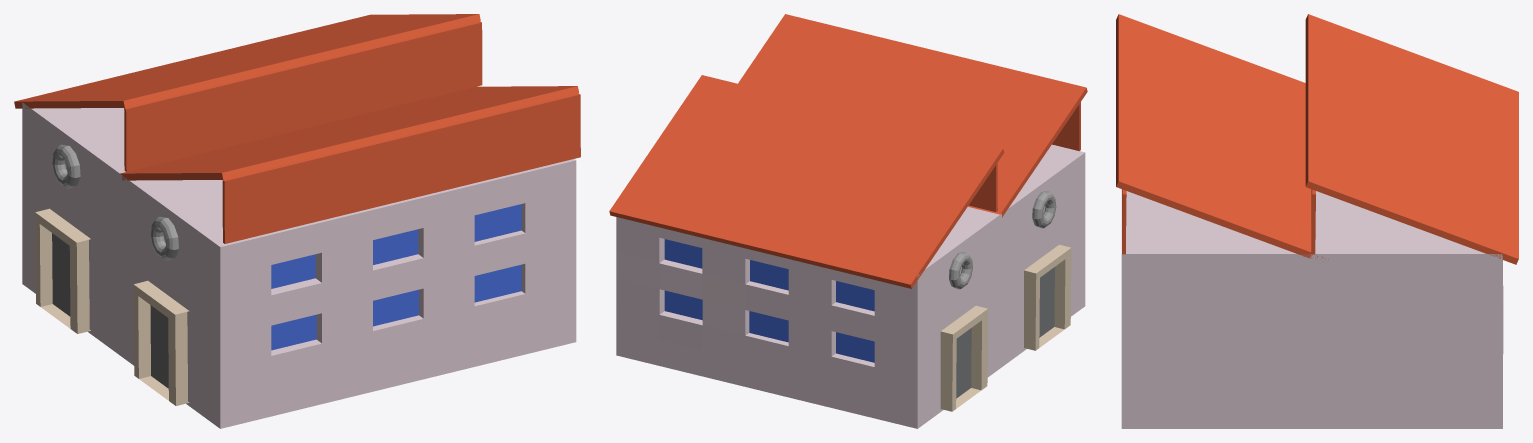
The model's file is orangepowder.glb.
3 views of the same model, side by side, from view 1: azimuth 30°, elevation 25°; view 2: azimuth 150°, elevation 25°; view 3: azimuth 270°, elevation 25° (orthographic). The views are drawn at different scales.
Visible parts, largest first — view 1: Cube.004, Cube.002, Cube, Cube.001, Cube.003, Cube.006, Torus; view 2: Cube.001, Cube, Cube.004, Cube.006, Cube.003, Cube.002, Torus; view 3: Cube.004, Cube, Cube.001, Cube.006.
Part boxes in pixels (x1=…): Cube.004: x1=120, y1=86, x2=580, y2=428; Cube.002: x1=124, y1=21, x2=482, y2=171; Cube: x1=22, y1=102, x2=125, y2=356; Cube.001: x1=14, y1=14, x2=480, y2=108; Cube.003: x1=35, y1=208, x2=90, y2=333; Cube.006: x1=35, y1=92, x2=187, y2=333; Torus: x1=52, y1=144, x2=80, y2=186; Cube.001: x1=609, y1=75, x2=1004, y2=288; Cube: x1=616, y1=207, x2=1001, y2=428; Cube.004: x1=738, y1=14, x2=1087, y2=366; Cube.006: x1=609, y1=116, x2=1003, y2=406; Cube.003: x1=940, y1=305, x2=987, y2=411; Cube.002: x1=968, y1=163, x2=997, y2=211; Torus: x1=949, y1=252, x2=972, y2=289; Cube.004: x1=1116, y1=14, x2=1328, y2=428; Cube: x1=1311, y1=191, x2=1503, y2=428; Cube.001: x1=1305, y1=14, x2=1518, y2=264; Cube.006: x1=1306, y1=17, x2=1518, y2=428.
Bounding box in the file's own units: 8.57 × 5.62 × 8.28.
